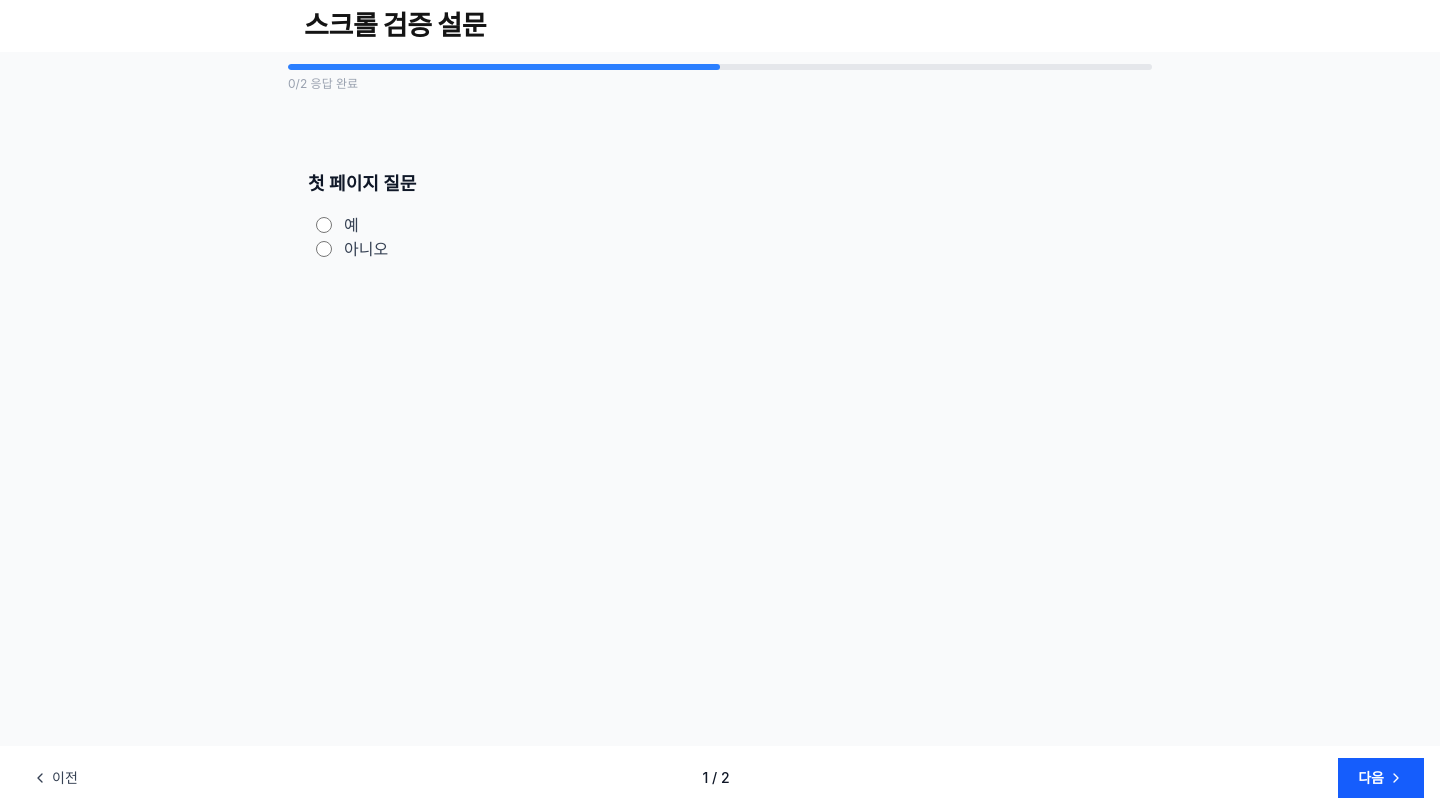
it: 스텝 이동 시 맨 위로 스크롤 › 다음 페이지가 DOM 에 커밋된 뒤에 즉시 스크롤로 맨 위로 올린다
Click the button "다음" at [1381, 778], box top-left (1338, 758), bottom-right (1424, 798)
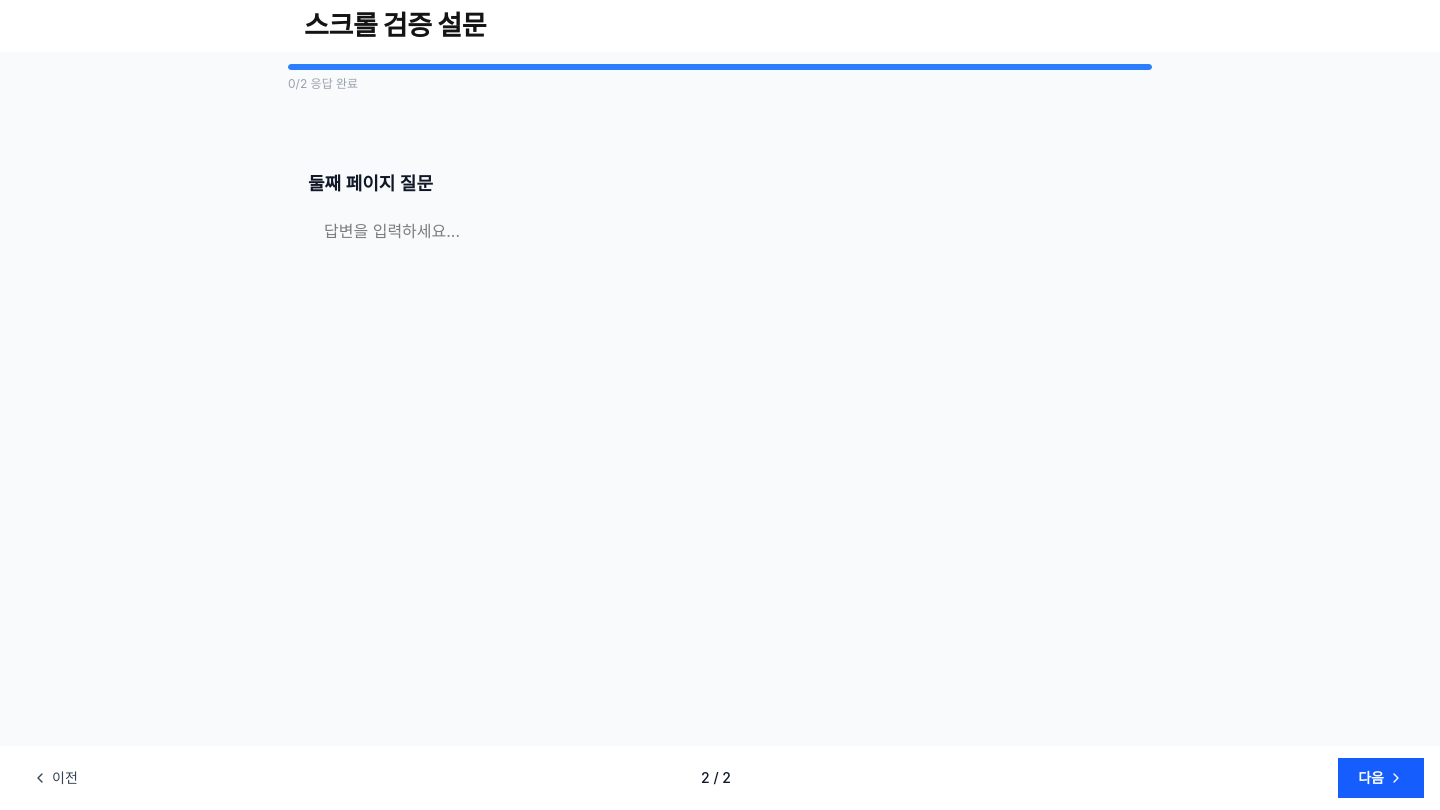
Expected: the text "둘째 페이지 질문" is shown, top-left (304, 172), bottom-right (437, 197)
